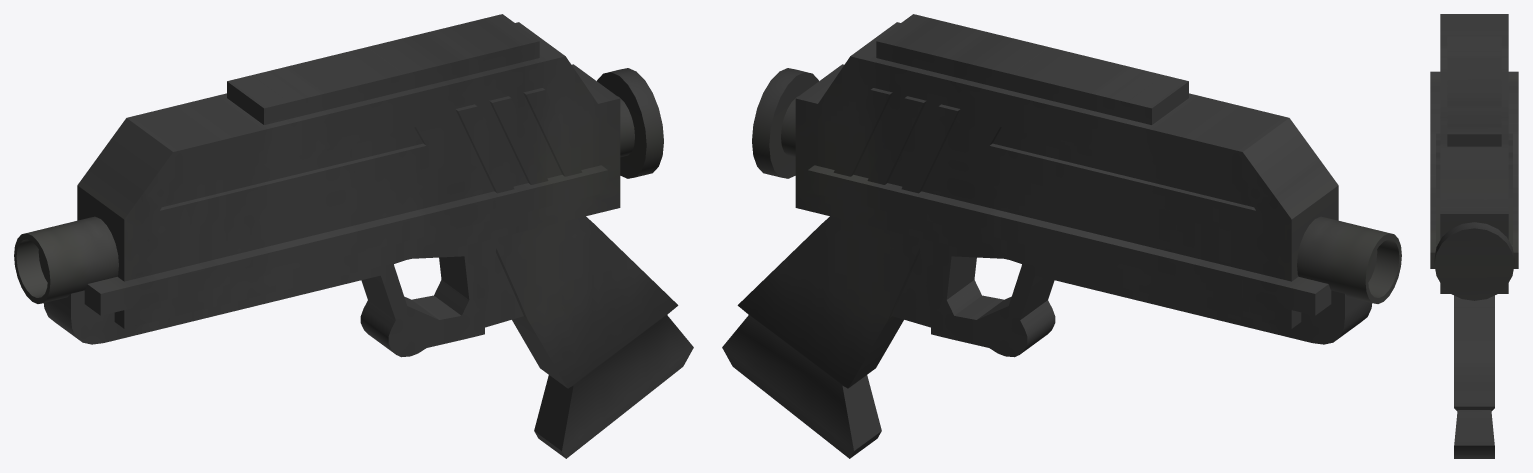
The model's file is blaster.glb.
3 views of the same model, side by side, from view 1: azimuth 30°, elevation 25°; view 2: azimuth 150°, elevation 25°; view 3: azimuth 270°, elevation 25° (orthographic). The views are drawn at different scales.
Visible parts, largest first — view 1: DC-17 hand blaster_DC-17 hand blaster_0; view 2: DC-17 hand blaster_DC-17 hand blaster_0; view 3: DC-17 hand blaster_DC-17 hand blaster_0.
Part boxes in pixels (box(x1,y1,x2,y2)): DC-17 hand blaster_DC-17 hand blaster_0: box(14, 14, 693, 458); DC-17 hand blaster_DC-17 hand blaster_0: box(722, 14, 1401, 458); DC-17 hand blaster_DC-17 hand blaster_0: box(1430, 14, 1518, 458).
Bounding box in the file's own units: 231 × 146 × 37.21.
1 material, 1 textured.
